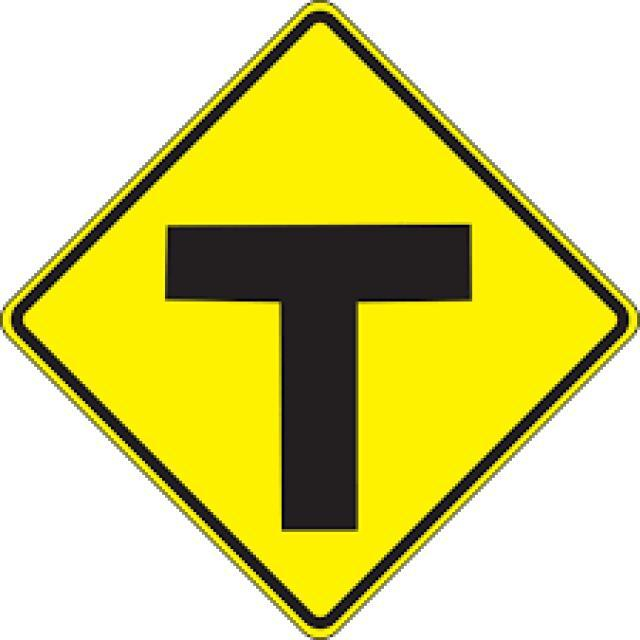t intersection: (29, 41, 614, 604)
